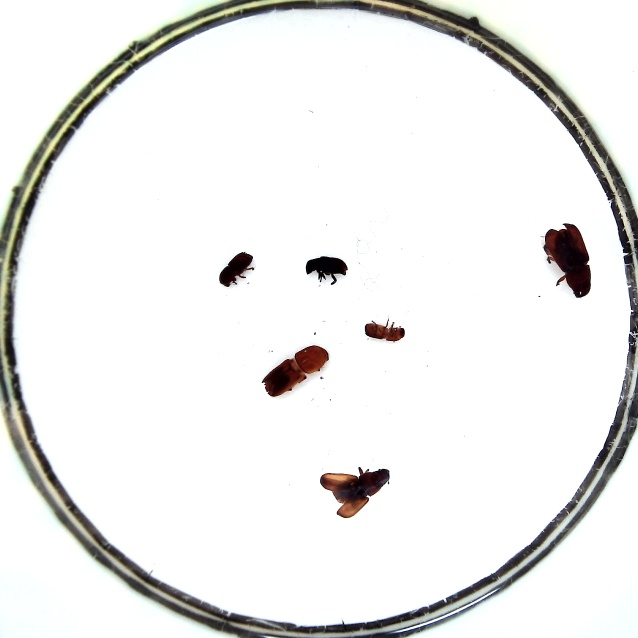acuminatus: (364, 318, 405, 342)
armandi: (304, 254, 348, 285)
boerner: (260, 342, 328, 396)
leconte: (541, 224, 595, 298), (318, 467, 389, 518)
linnaeus: (218, 250, 254, 287)
